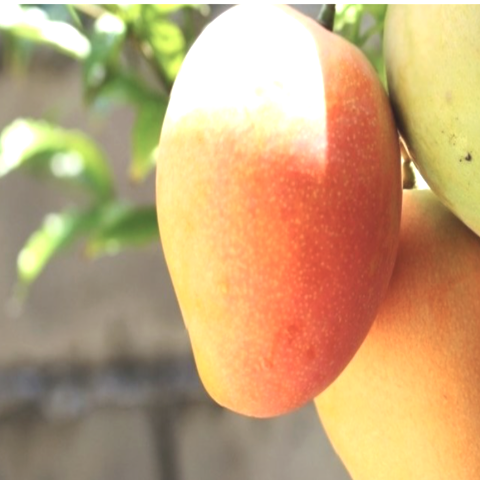mango: (134, 2, 437, 459)
